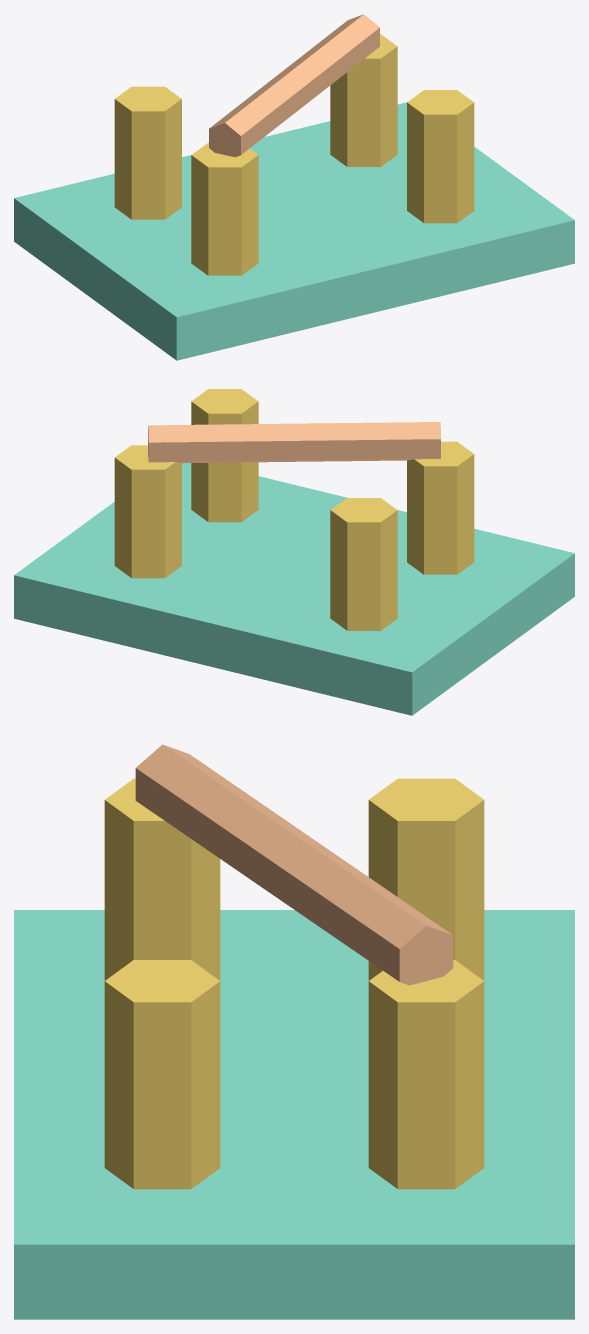
The picture shows the model from 3 angles, top to bottom: view 1: azimuth 30°, elevation 25°; view 2: azimuth 150°, elevation 25°; view 3: azimuth 270°, elevation 25°; orthographic projection. The views are drawn at different scales.
Visible parts, largest first — view 1: Assembly board, Connection peg.001, Connection peg.002, Connection peg, Cross member, Connection peg.003; view 2: Assembly board, Cross member, Connection peg.001, Connection peg.003, Connection peg, Connection peg.002; view 3: Assembly board, Connection peg.002, Cross member, Connection peg.003, Connection peg, Connection peg.001.
Part boxes in pixels (<box>): Assembly board: <box>14,102,574,360</box>; Connection peg.001: <box>114,86,181,219</box>; Connection peg.002: <box>407,90,474,223</box>; Connection peg: <box>191,142,258,275</box>; Cross member: <box>209,14,379,157</box>; Connection peg.003: <box>330,34,397,166</box>; Assembly board: <box>14,463,574,715</box>; Cross member: <box>148,422,440,463</box>; Connection peg.001: <box>330,498,397,630</box>; Connection peg.003: <box>114,445,181,578</box>; Connection peg: <box>407,441,474,574</box>; Connection peg.002: <box>191,389,258,522</box>; Assembly board: <box>14,910,574,1319</box>; Connection peg.002: <box>104,960,220,1189</box>; Cross member: <box>135,744,453,985</box>; Connection peg.003: <box>368,960,484,1189</box>; Connection peg: <box>104,778,220,980</box>; Connection peg.001: <box>368,778,484,980</box>.
Size of the model in its own units: 0.48 by 0.212 by 0.34.
Materials: 1 (1 with a texture image).
